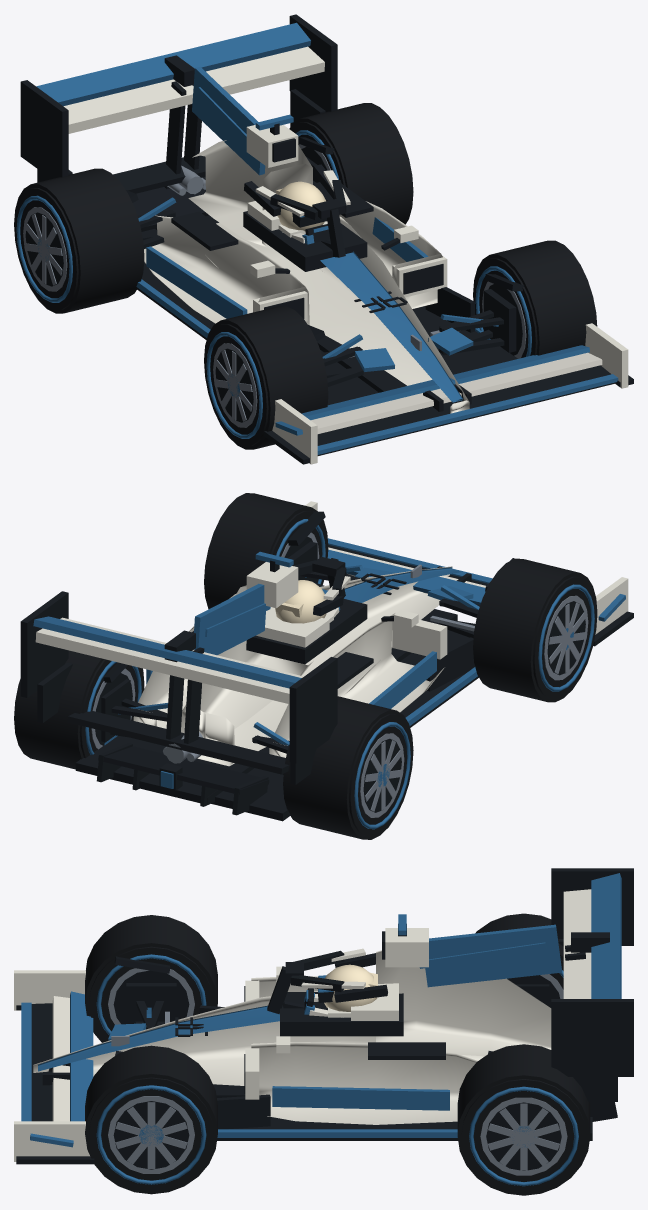
File: helix-36.glb
3 views of the same model, one above another, from view 1: azimuth 30°, elevation 25°; view 2: azimuth 150°, elevation 25°; view 3: azimuth 270°, elevation 25° (orthographic).
Visible parts, largest first — view 1: formula-36, wheel (×4); view 2: formula-36, wheel (×4); view 3: formula-36, wheel (×4).
Part boxes in pixels (bbox=[...]): formula-36: bbox=[20, 14, 633, 464]; wheel (×4): bbox=[14, 103, 597, 449]; formula-36: bbox=[20, 501, 633, 821]; wheel (×4): bbox=[14, 493, 597, 839]; formula-36: bbox=[14, 868, 633, 1164]; wheel (×4): bbox=[85, 913, 590, 1195].
Bounding box in the file's own units: 3.41 × 1.85 × 5.41.
